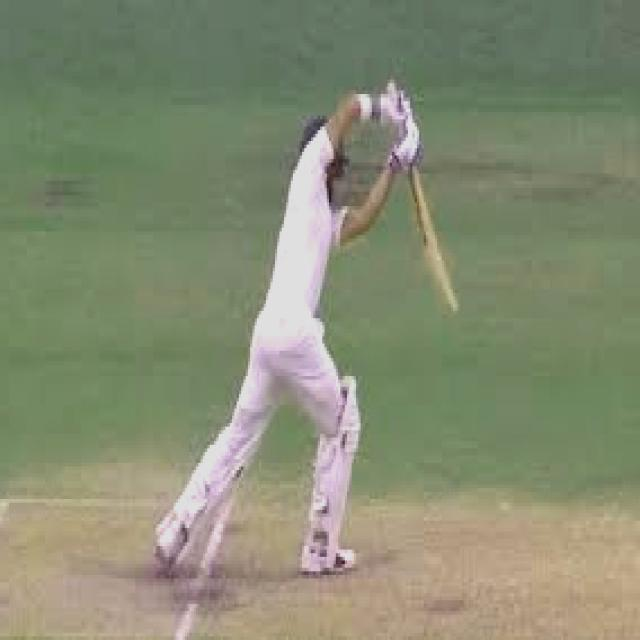toe: (438, 282, 466, 333)
